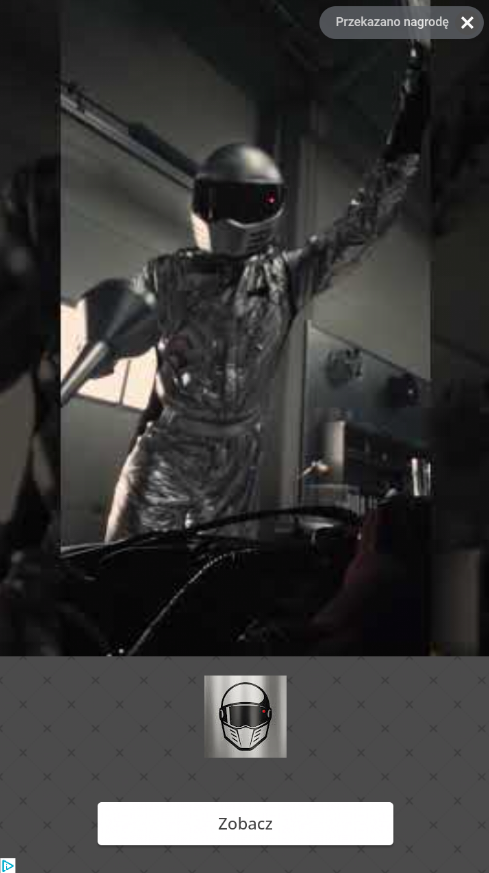close_button: (458, 13, 478, 34)
